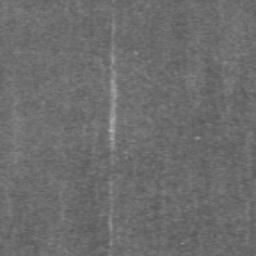Bright scratch: (108, 15, 116, 256)
